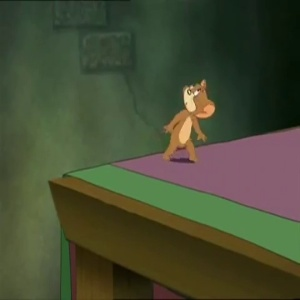Jerry: (181, 78, 216, 117)
